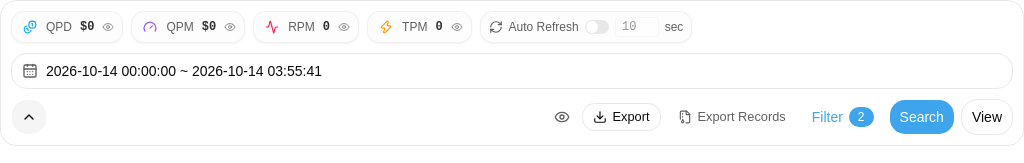
it: collapses only date and statistics while keeping the right-hand quick actions visible
Check: the button "Filter 2" is shown, box top-left (803, 99), bottom-right (882, 135)
Check: the text "QPD" is shown, box top-left (46, 19), bottom-right (72, 35)
Click the button named "Collapse".
click(29, 117)  # box top-left (11, 99), bottom-right (47, 135)
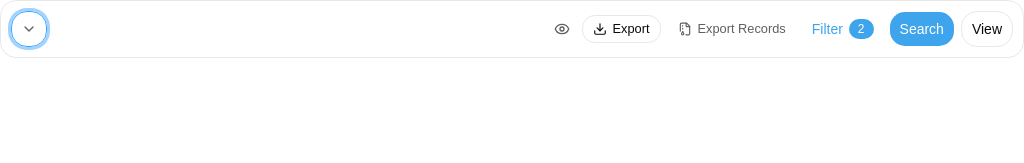
Check: the button named "Hide" is shown, box top-left (548, 15), bottom-right (576, 43)
Check: the button named "Expand" is collapsed
Check: the text "QPD" is gone
Click the button named "Expand".
click(29, 29)  # box top-left (11, 11), bottom-right (47, 47)
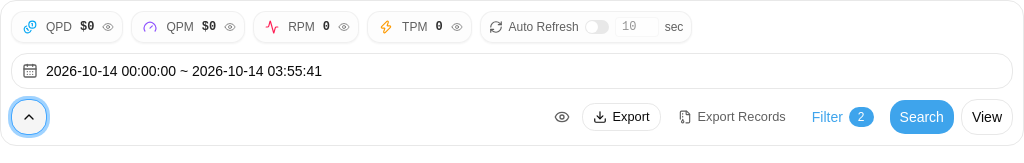
Check: the button named "Collapse" is expanded, box top-left (11, 99), bottom-right (47, 135)
Check: the text "QPD" is shown, box top-left (46, 19), bottom-right (72, 35)
